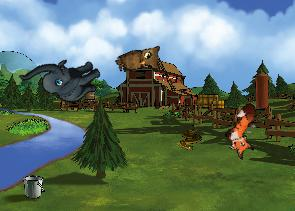elephant: (18, 36, 107, 121)
fox: (216, 100, 274, 162)
owl: (113, 40, 167, 84)
